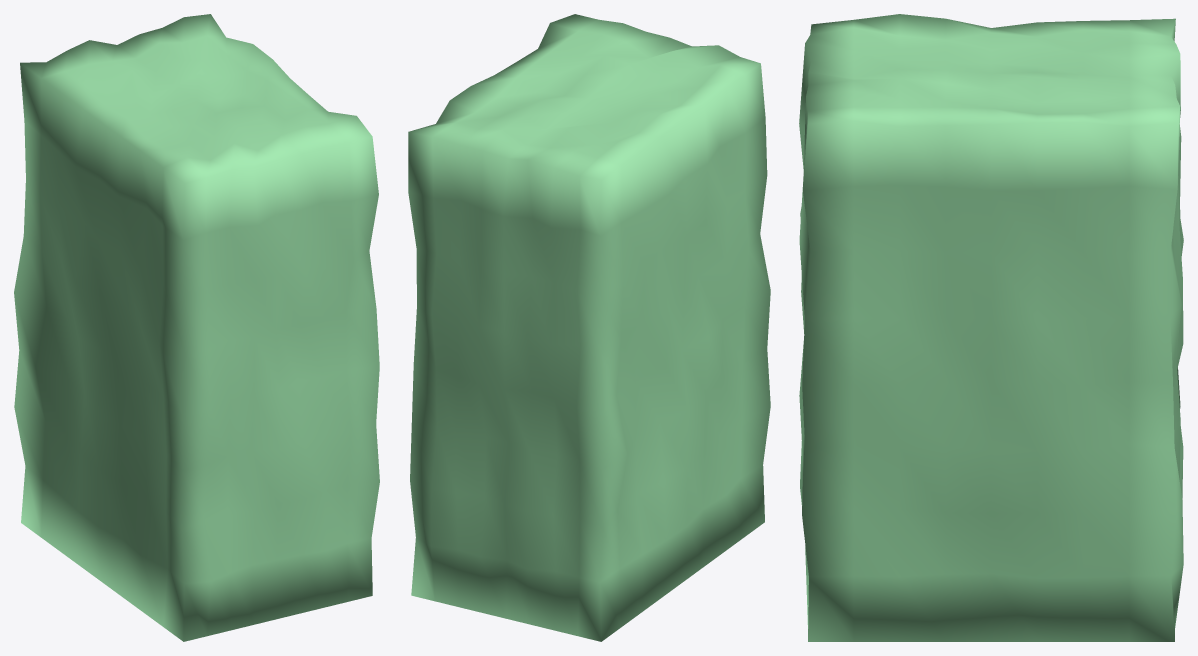
File: bushwall.fbx
3 renders of one model, left to right at view 1: azimuth 30°, elevation 25°; view 2: azimuth 150°, elevation 25°; view 3: azimuth 270°, elevation 25°, orthographic. The views are drawn at different scales.
Visible parts, largest first — view 1: Cube.001; view 2: Cube.001; view 3: Cube.001.
Boxes of the visible parts, x1,y1,x2,y2 form: Cube.001: (14, 14, 379, 641); Cube.001: (408, 14, 770, 641); Cube.001: (799, 14, 1183, 641).
Bounding box in the file's own units: 582 × 1284 × 852.
